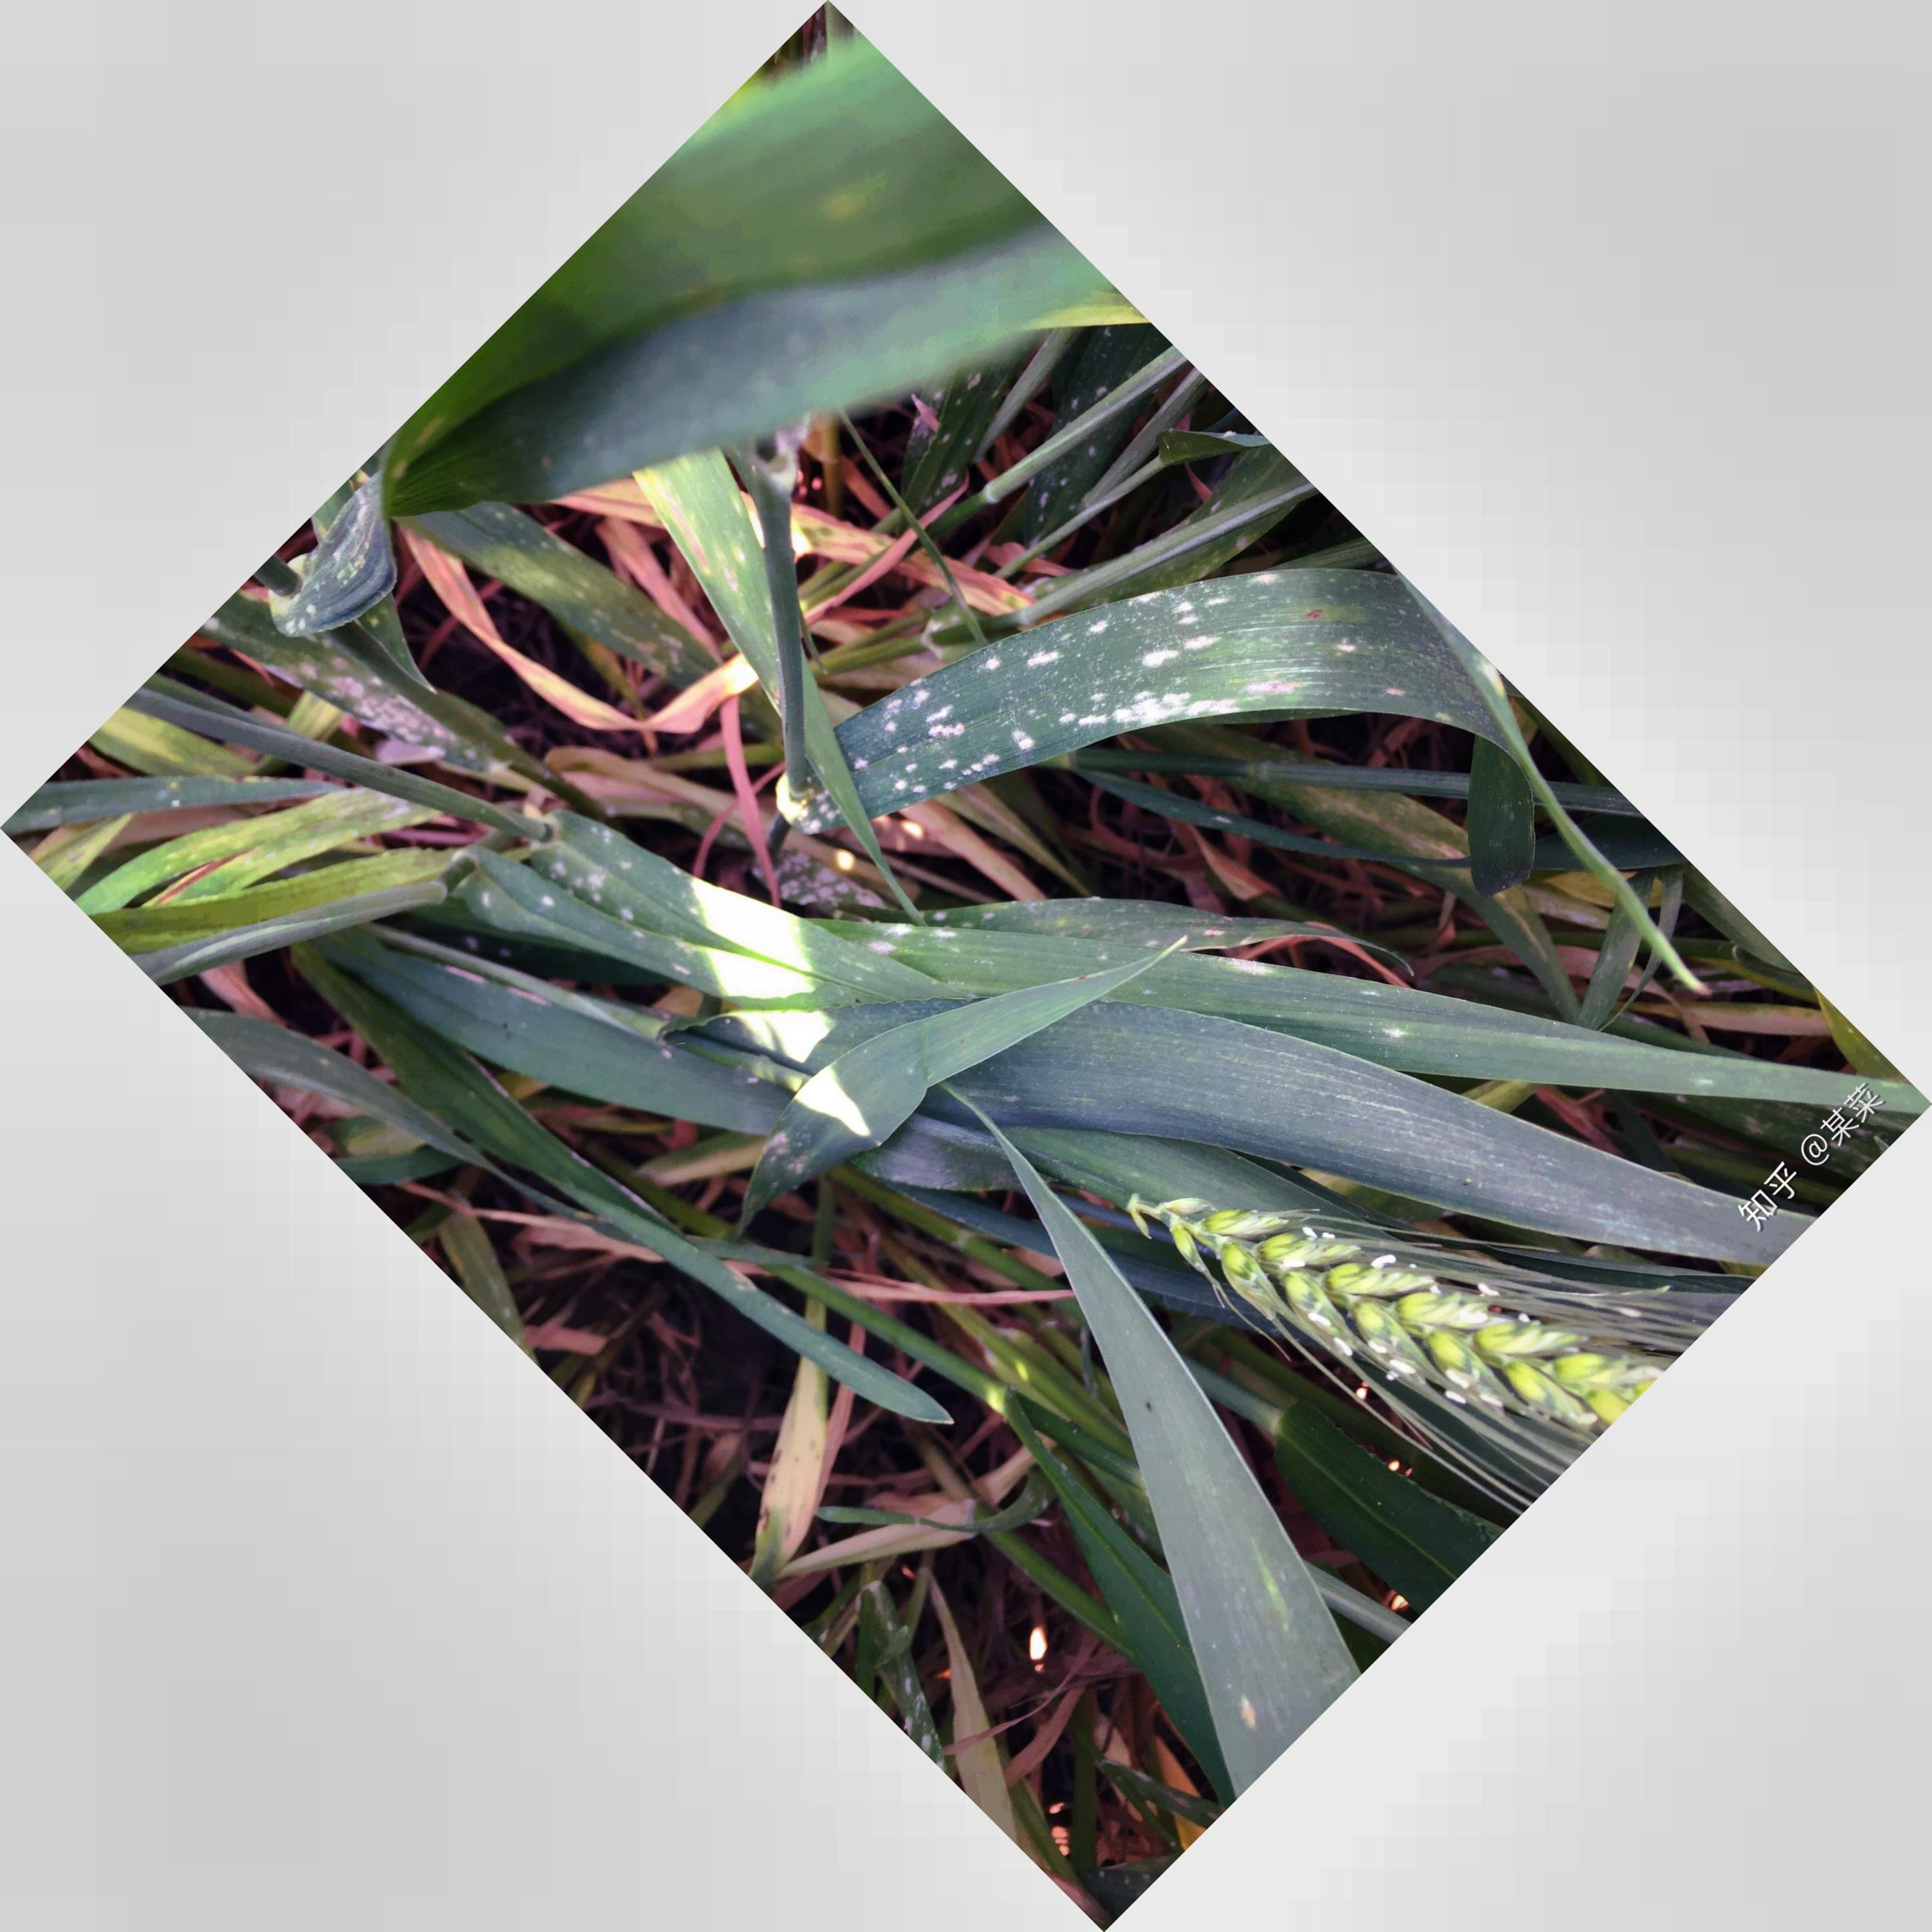Powdery Mildew: (847, 554, 1292, 796)
